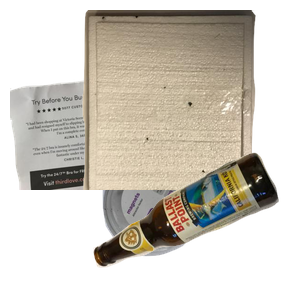glass: (91, 150, 300, 300)
paper: (10, 61, 250, 241)
plastic: (100, 152, 293, 300)
trash: (80, 10, 300, 190)
